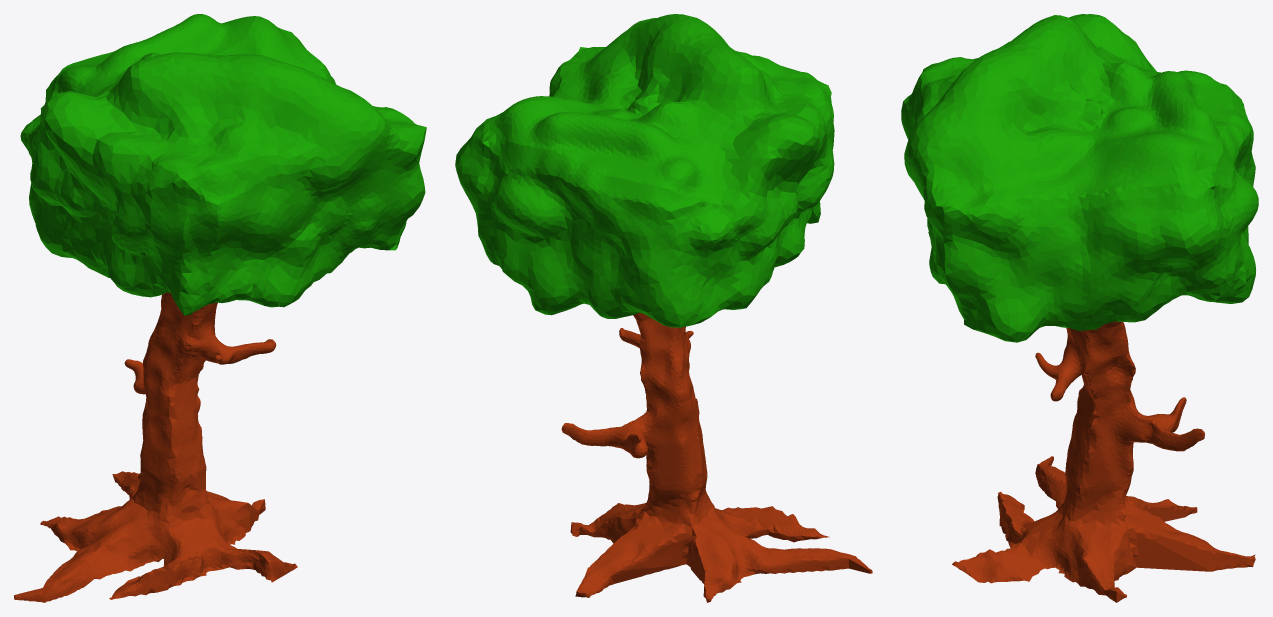
Rendered from tree.obj.
The picture shows the model from 3 angles, left to right: view 1: azimuth 30°, elevation 25°; view 2: azimuth 150°, elevation 25°; view 3: azimuth 270°, elevation 25°; orthographic projection. The views are drawn at different scales.
Parts seen in each view (by area): view 1: Leaves_Cube, Trunc_Cube.001; view 2: Leaves_Cube, Trunc_Cube.001; view 3: Leaves_Cube, Trunc_Cube.001.
Boxes of the visible parts, left/top/right/bottom form: Leaves_Cube: left=20, top=14, right=426, bottom=315; Trunc_Cube.001: left=14, top=292, right=297, bottom=602; Leaves_Cube: left=455, top=14, right=834, bottom=327; Trunc_Cube.001: left=561, top=312, right=872, bottom=602; Leaves_Cube: left=901, top=14, right=1258, bottom=342; Trunc_Cube.001: left=952, top=321, right=1255, bottom=602.
Size of the model in its own units: 16.79 by 22.18 by 13.89.
